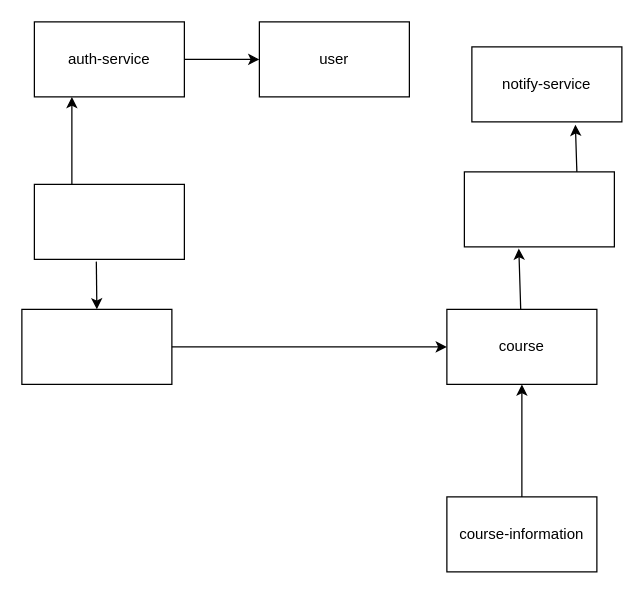
Some shapes in this 644 by 594 pixel diagram are drawn without their labels. Here are the shapes that lost their labels. From the top down, the box of each, then its label:
(33, 183, 184, 259): common-service
(463, 171, 614, 247): course-request
(21, 308, 172, 384): zuul-server
